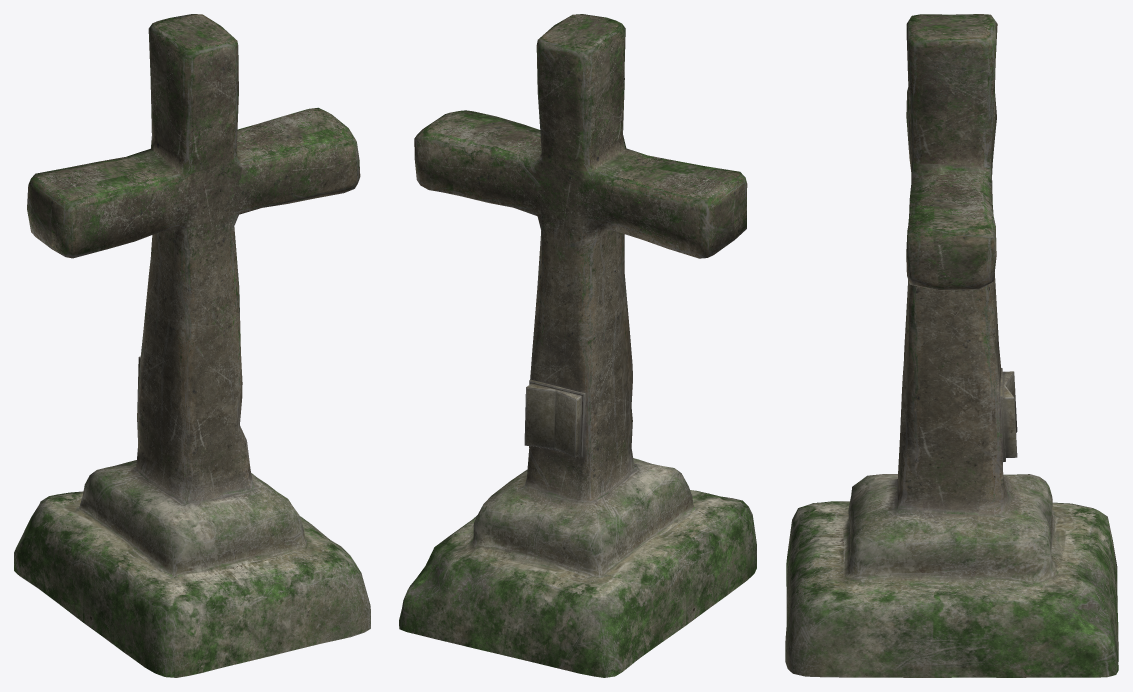
Rendered from cruz_chica.obj.
3 renders of one model, left to right at view 1: azimuth 30°, elevation 25°; view 2: azimuth 150°, elevation 25°; view 3: azimuth 270°, elevation 25°, orthographic. The views are drawn at different scales.
Parts seen in each view (by area): view 1: Grave_Tip_D_LP_Grave_Tip_D_LP_001; view 2: Grave_Tip_D_LP_Grave_Tip_D_LP_001; view 3: Grave_Tip_D_LP_Grave_Tip_D_LP_001.
Part boxes in pixels (<box>): Grave_Tip_D_LP_Grave_Tip_D_LP_001: <box>14,14,370,677</box>; Grave_Tip_D_LP_Grave_Tip_D_LP_001: <box>399,14,756,677</box>; Grave_Tip_D_LP_Grave_Tip_D_LP_001: <box>785,14,1118,677</box>.
Bounding box in the file's own units: 16.01 × 29.24 × 14.82.
1 material, 1 textured.
